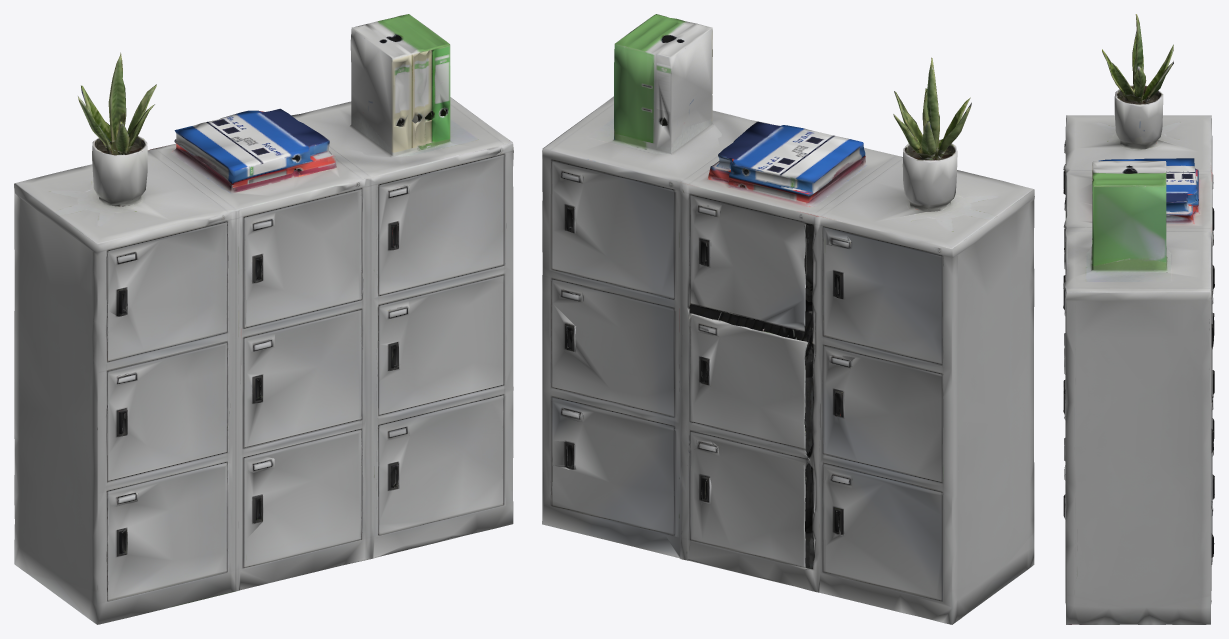
File: dolap.fbx
3 views of the same model, side by side, from view 1: azimuth 30°, elevation 25°; view 2: azimuth 150°, elevation 25°; view 3: azimuth 270°, elevation 25° (orthographic). The views are drawn at different scales.
Visible parts, largest first — view 1: Mesh_0; view 2: Mesh_0; view 3: Mesh_0.
Boxes of the visible parts, box(x1,y1,x2,y2) form: Mesh_0: box(14, 14, 513, 624); Mesh_0: box(542, 14, 1034, 624); Mesh_0: box(1063, 14, 1214, 624).
Size of the model in its own units: 158 by 191 by 56.94.
Materials: 1 (1 with a texture image).
